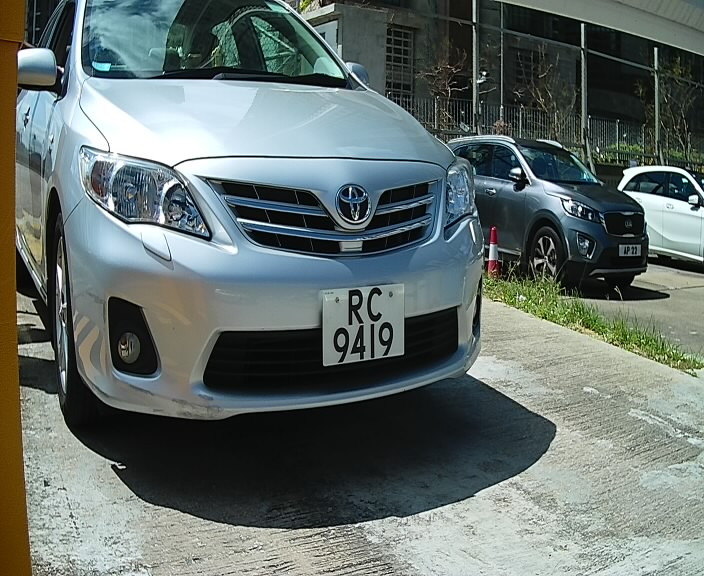Car: (14, 2, 498, 478)
License Plate: (314, 275, 414, 378)
